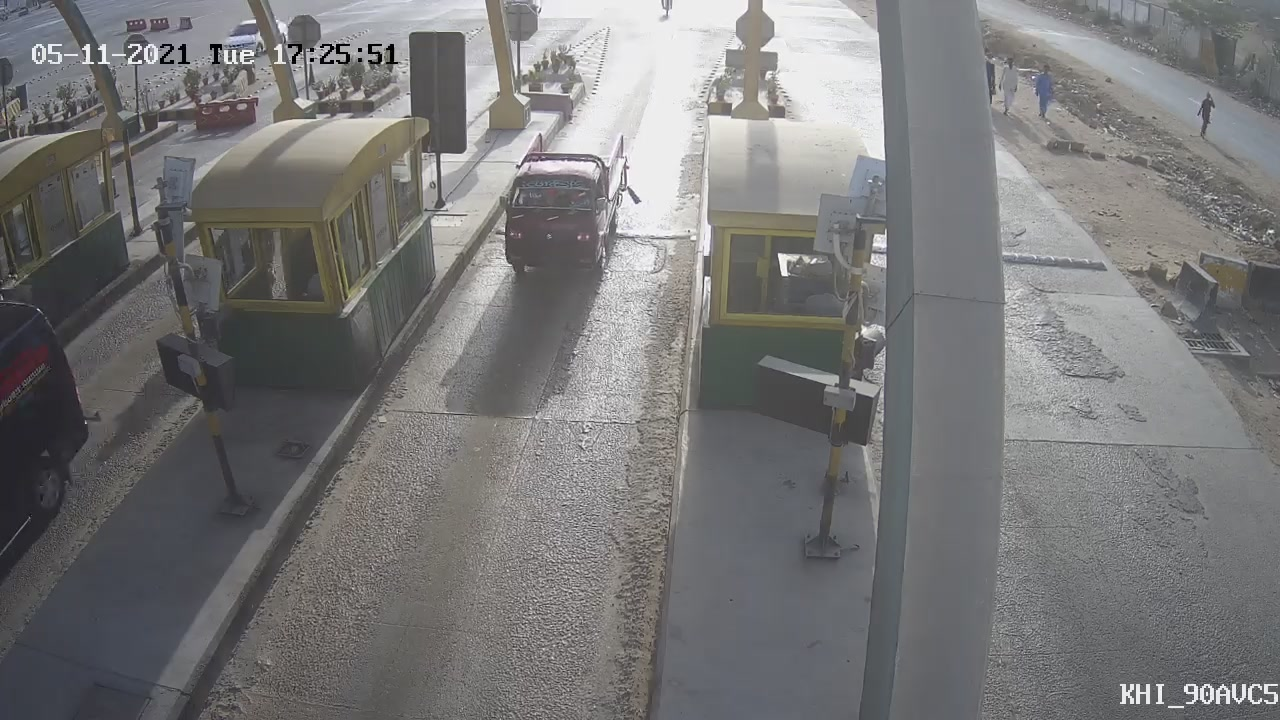F1: (482, 116, 654, 302)
